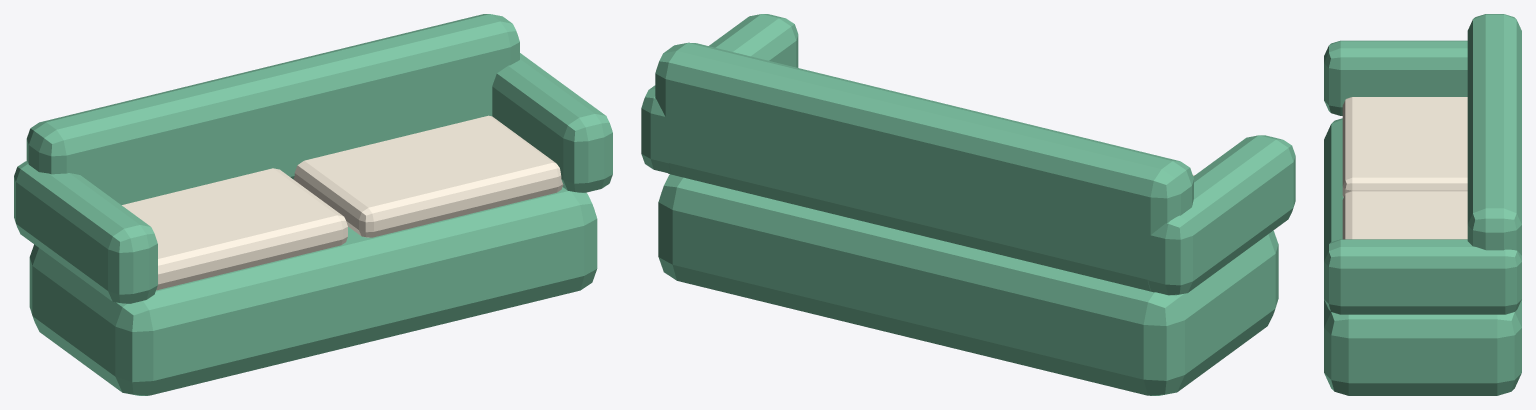
Rendered from int_sofa.fbx.
The picture shows the model from 3 angles, left to right: view 1: azimuth 30°, elevation 25°; view 2: azimuth 150°, elevation 25°; view 3: azimuth 270°, elevation 25°; orthographic projection. The views are drawn at different scales.
Parts seen in each view (by area): view 1: int_sofa; view 2: int_sofa; view 3: int_sofa.
Part boxes in pixels (box(x1,y1,x2,y2)): int_sofa: box(14, 14, 612, 395); int_sofa: box(641, 14, 1295, 395); int_sofa: box(1324, 14, 1521, 395).
Bounding box in the file's own units: 210 × 84.5 × 80.
Materials: 1 (1 with a texture image).
